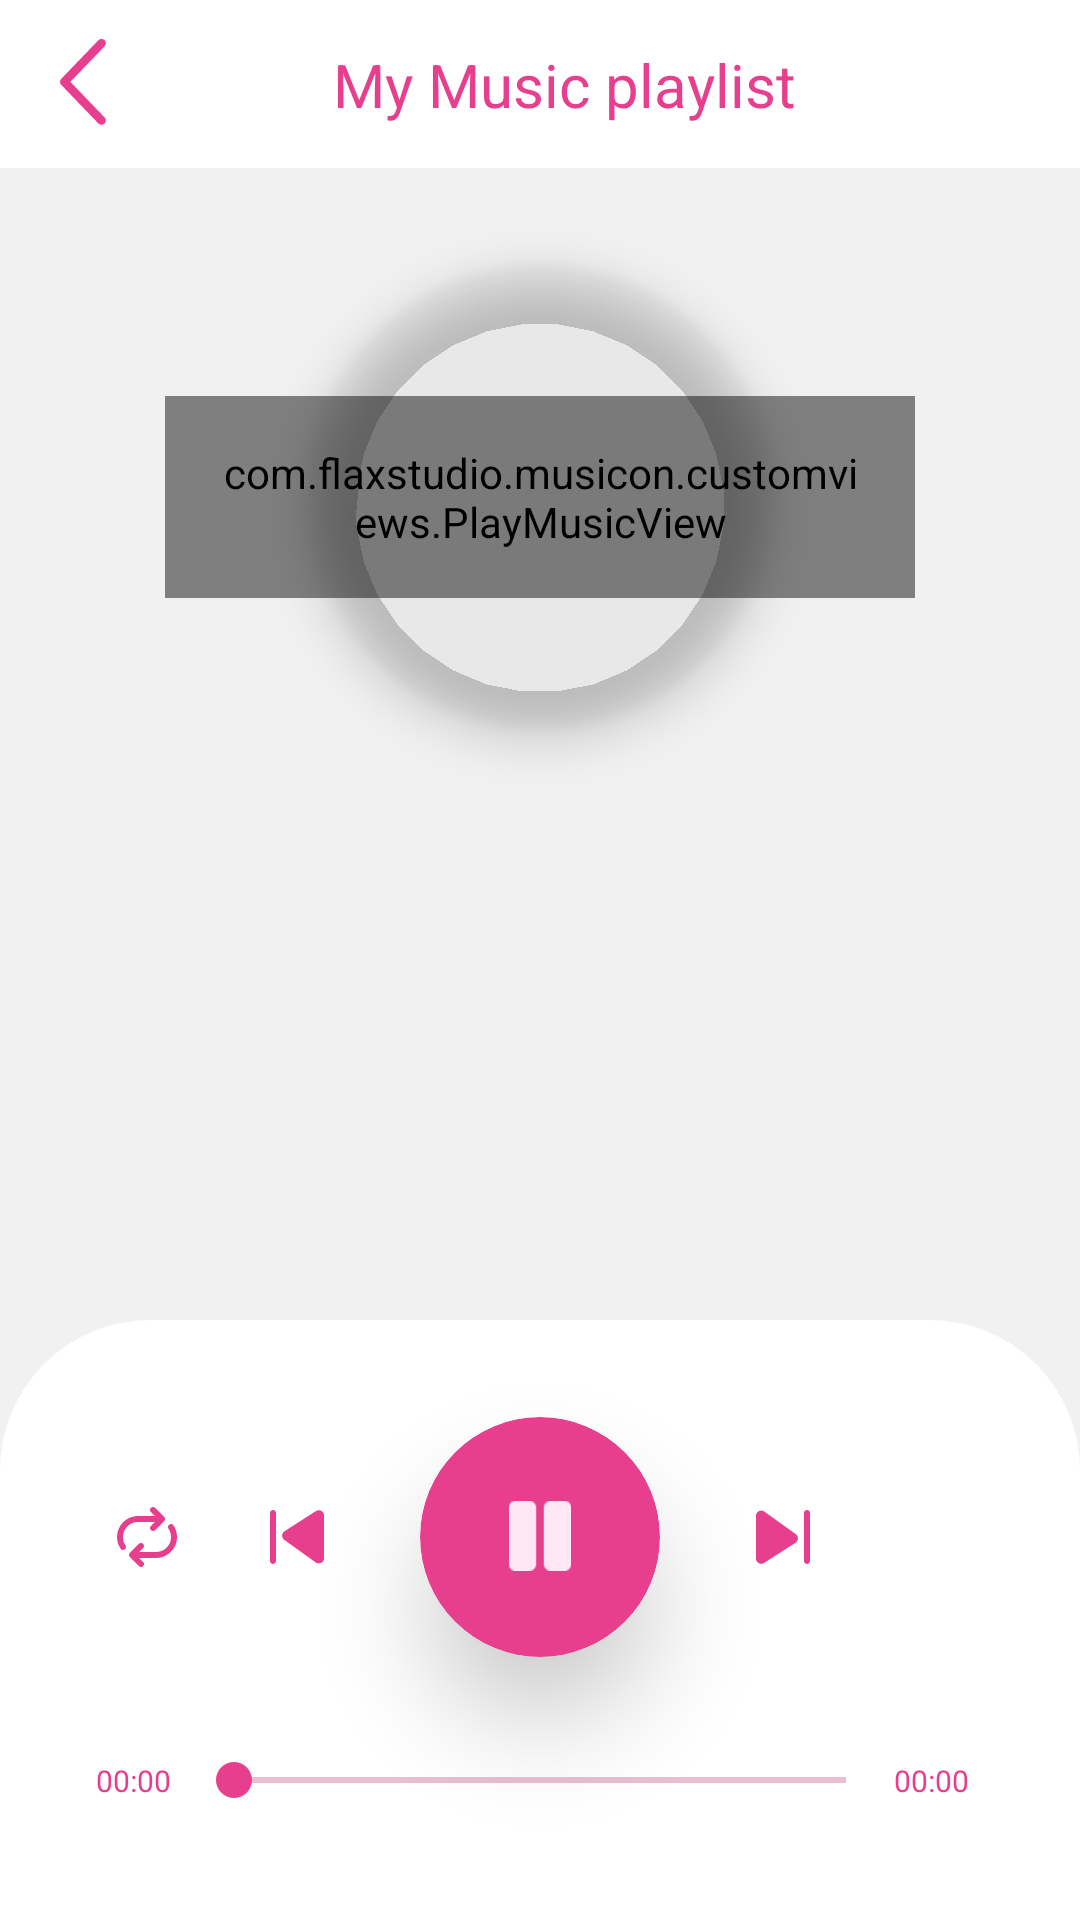

Locate icon controls on the screen. Image size 1080px×1920px, boxes as bbox(x1, y1, x2, y2).
arrow back: bbox(60, 39, 106, 125)
backward: bbox(270, 1510, 324, 1564)
forward: bbox(756, 1510, 810, 1564)
loop: bbox(117, 1507, 177, 1567)
